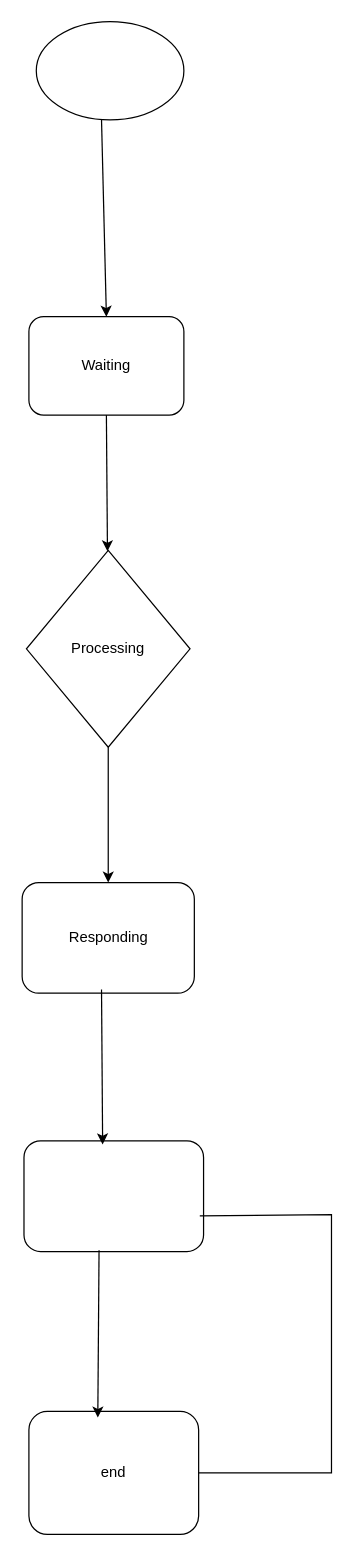
The diagram is 354 pixels wide and 1556 high, and some of its shapes have lost their labels. Each missing label, with the centre of its shape:
"Confirmed" belongs at [113,1196].
"Initiziliacion" belongs at [109,70].
